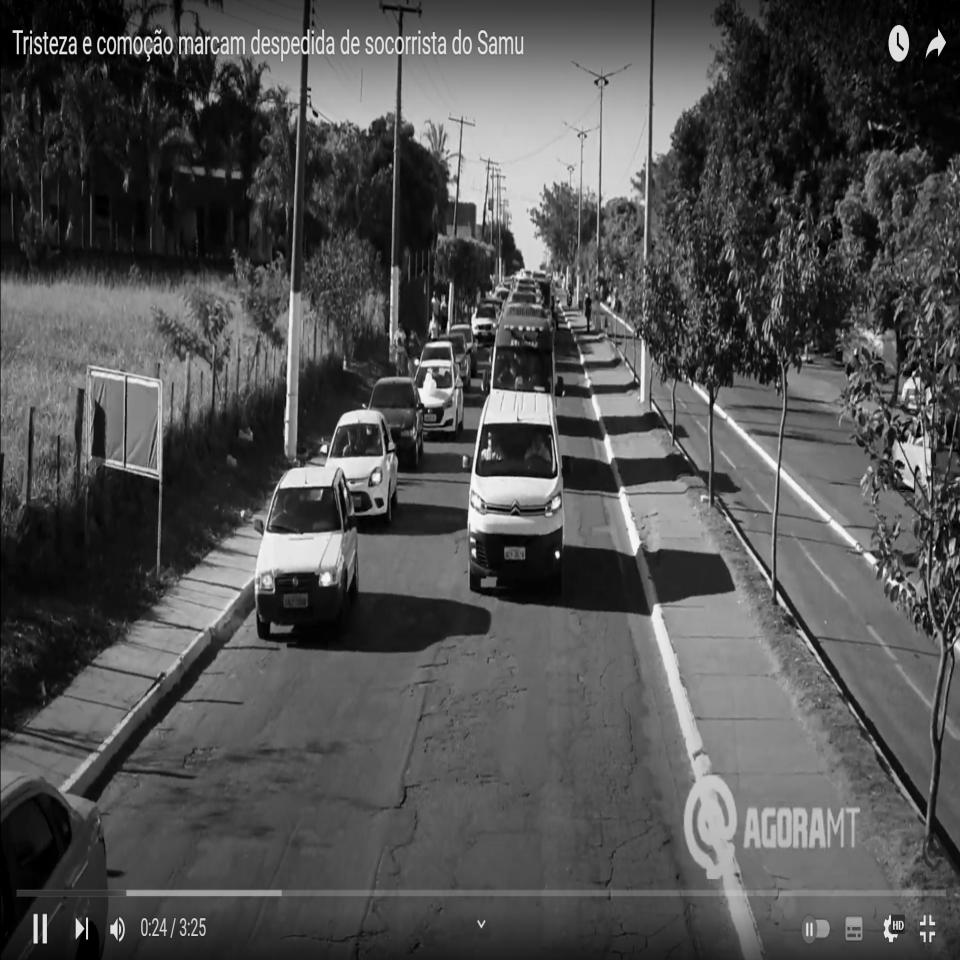ambulancia: (482, 303, 564, 398)
